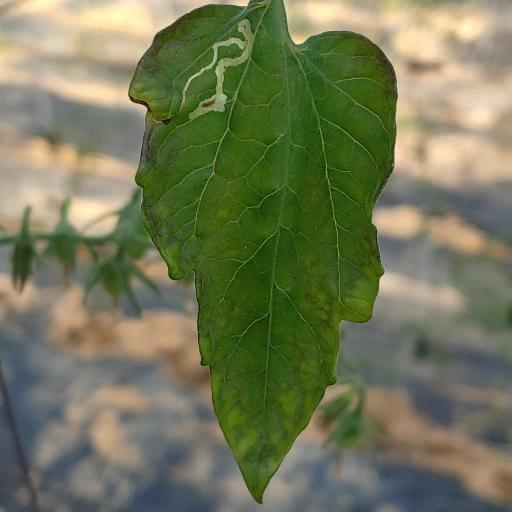disease_tomato: (127, 2, 399, 504)
